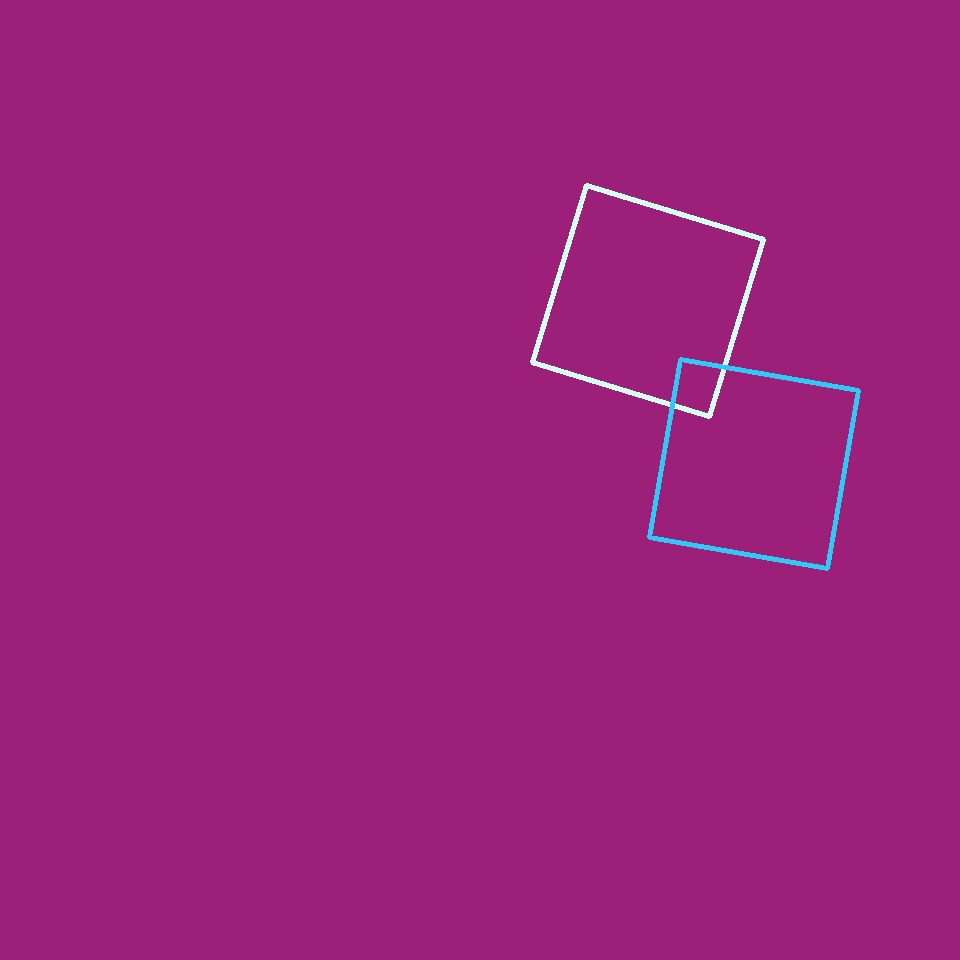square: (532, 186, 764, 416), (650, 360, 858, 568)
